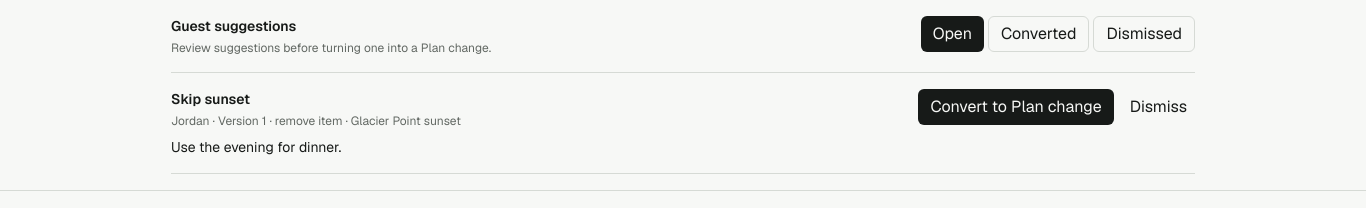
member guest suggestions panel › dismisses an open suggestion and makes it terminal
The width and height of the screenshot is (1366, 208).
Click the button "Dismiss". click: {"x": 1158, "y": 107}
box: [1122, 89, 1195, 125]
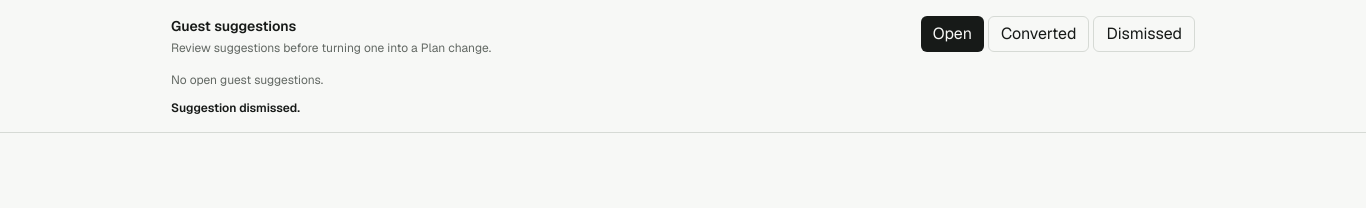
Expected: the message reads "Suggestion dismissed.", [171, 100, 300, 116]
